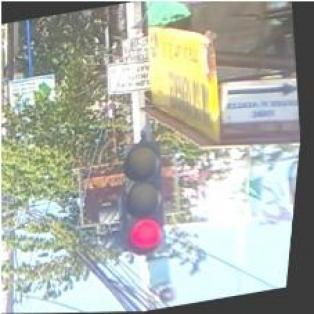Semaforo Rojo: (115, 140, 178, 256)
